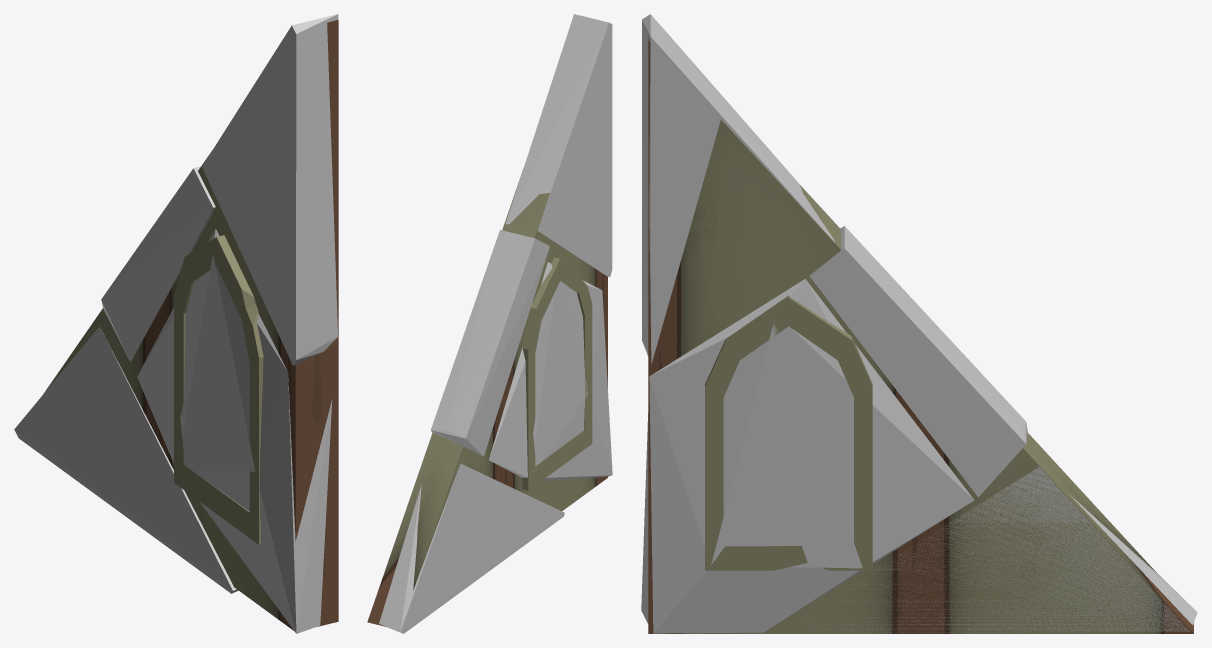
The model's file is SM_Bld_Wall_End_Straight_Small_Window_01.fbx.
3 views of the same model, side by side, from view 1: azimuth 30°, elevation 25°; view 2: azimuth 150°, elevation 25°; view 3: azimuth 270°, elevation 25° (orthographic). The views are drawn at different scales.
Parts seen in each view (by area): view 1: SM_Bld_Wall_End_Straight_Small_Window_01_ConvexHulls, SM_Bld_Wall_End_Straight_Small_Window_01; view 2: SM_Bld_Wall_End_Straight_Small_Window_01_ConvexHulls, SM_Bld_Wall_End_Straight_Small_Window_01; view 3: SM_Bld_Wall_End_Straight_Small_Window_01_ConvexHulls, SM_Bld_Wall_End_Straight_Small_Window_01.
Part boxes in pixels (box(x1,y1,x2,y2)): SM_Bld_Wall_End_Straight_Small_Window_01_ConvexHulls: box(14, 14, 338, 633); SM_Bld_Wall_End_Straight_Small_Window_01: box(44, 19, 338, 630); SM_Bld_Wall_End_Straight_Small_Window_01_ConvexHulls: box(379, 14, 612, 633); SM_Bld_Wall_End_Straight_Small_Window_01: box(367, 169, 607, 626); SM_Bld_Wall_End_Straight_Small_Window_01_ConvexHulls: box(641, 14, 1197, 633); SM_Bld_Wall_End_Straight_Small_Window_01: box(648, 36, 1193, 633).
Size of the model in its own units: 30.61 by 255 by 305.
3 materials, 2 textured.
